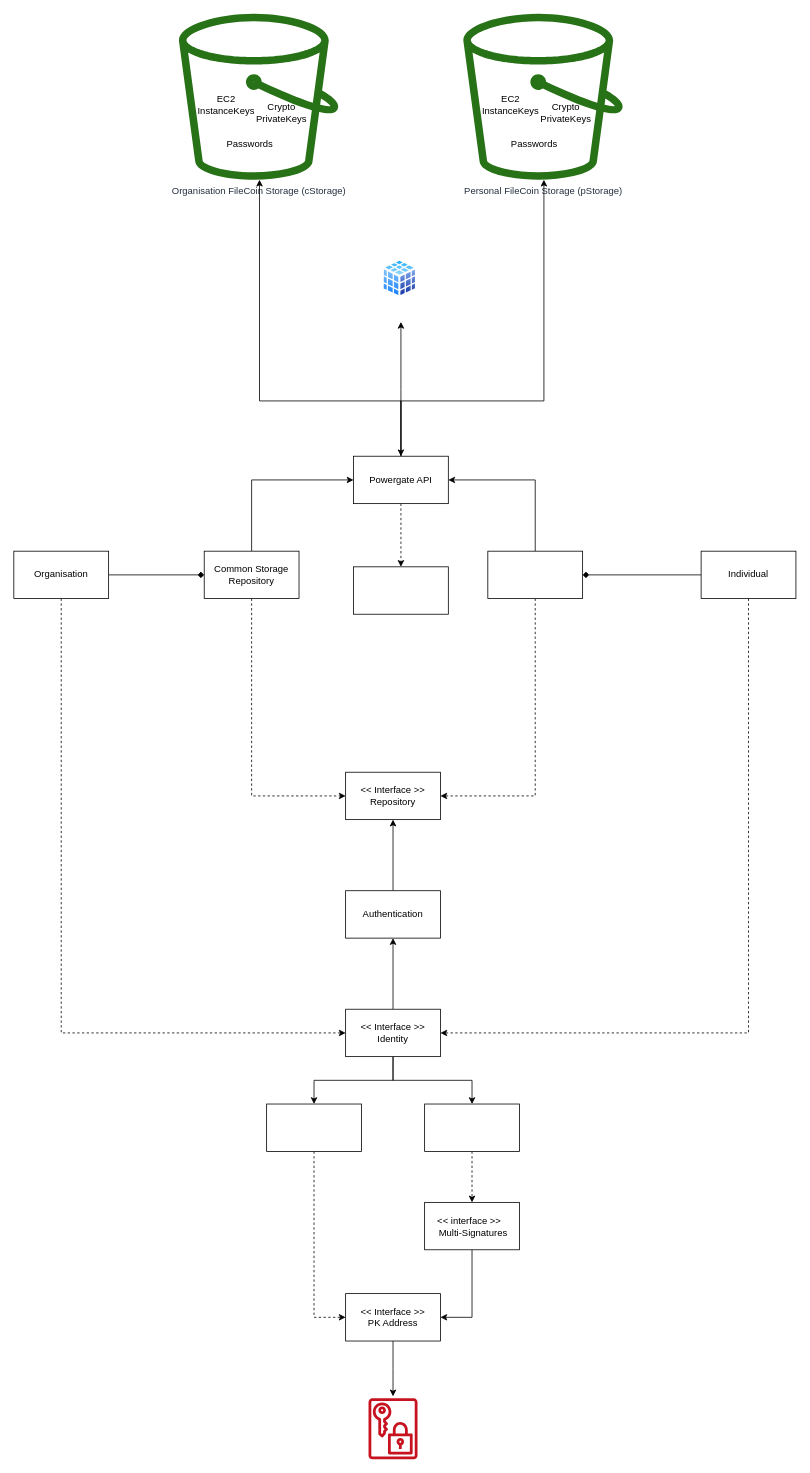
The diagram is 810 pixels wide and 1473 high, and some of its shapes have lost their labels. Each missing label, with the centre of its shape:
"<< Interface >> File Storage" belongs at (400,590).
"IPFS (Hot Storage)" belongs at (399,278).
"Multi-Party Wallet" belongs at (471,1127).
"Private Storage Repository" belongs at (535,574).
"Single Sig Wallet" belongs at (313,1127).
